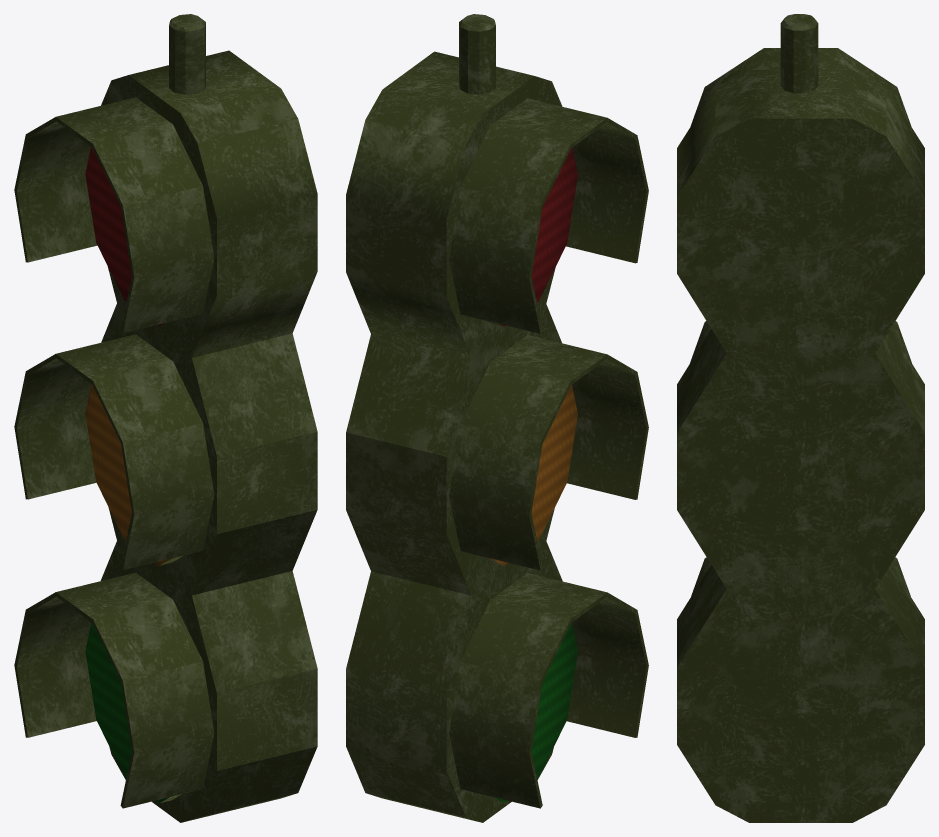
Rendered from aws_RaceStartLight_01_visual.DAE.
The picture shows the model from 3 angles, left to right: view 1: azimuth 30°, elevation 25°; view 2: azimuth 150°, elevation 25°; view 3: azimuth 270°, elevation 25°; orthographic projection.
Parts seen in each view (by area): view 1: aws_RaceStartLight_01_visual; view 2: aws_RaceStartLight_01_visual; view 3: aws_RaceStartLight_01_visual.
Boxes of the visible parts, x1,y1,x2,y2 form: aws_RaceStartLight_01_visual: (14, 14, 317, 822); aws_RaceStartLight_01_visual: (346, 14, 648, 822); aws_RaceStartLight_01_visual: (677, 14, 924, 822).
Size of the model in its own units: 31.23 by 37.33 by 128.
1 material, 1 textured.
